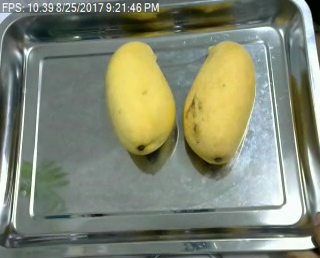Mango: (180, 40, 256, 164), (105, 39, 177, 159)
